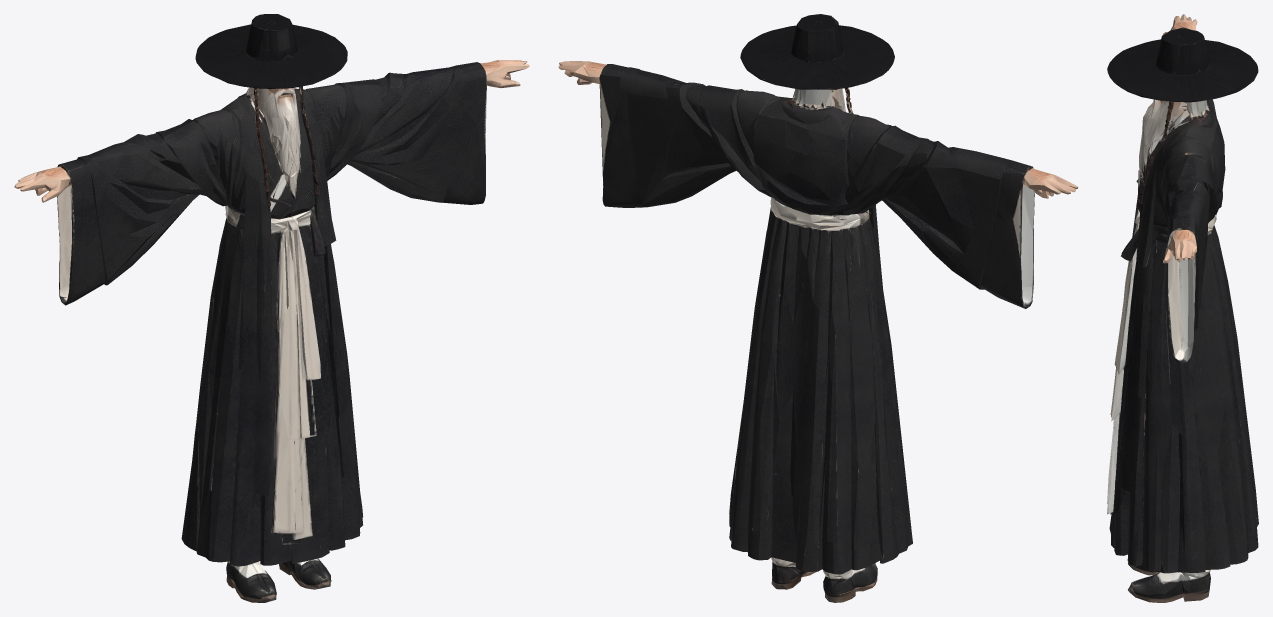
3 views of the same model, side by side, from view 1: azimuth 30°, elevation 25°; view 2: azimuth 150°, elevation 25°; view 3: azimuth 270°, elevation 25° (orthographic). The views are drawn at different scales.
Size of the model in its own units: 1.82 by 1.9 by 0.4785.
1 material, 1 textured.
